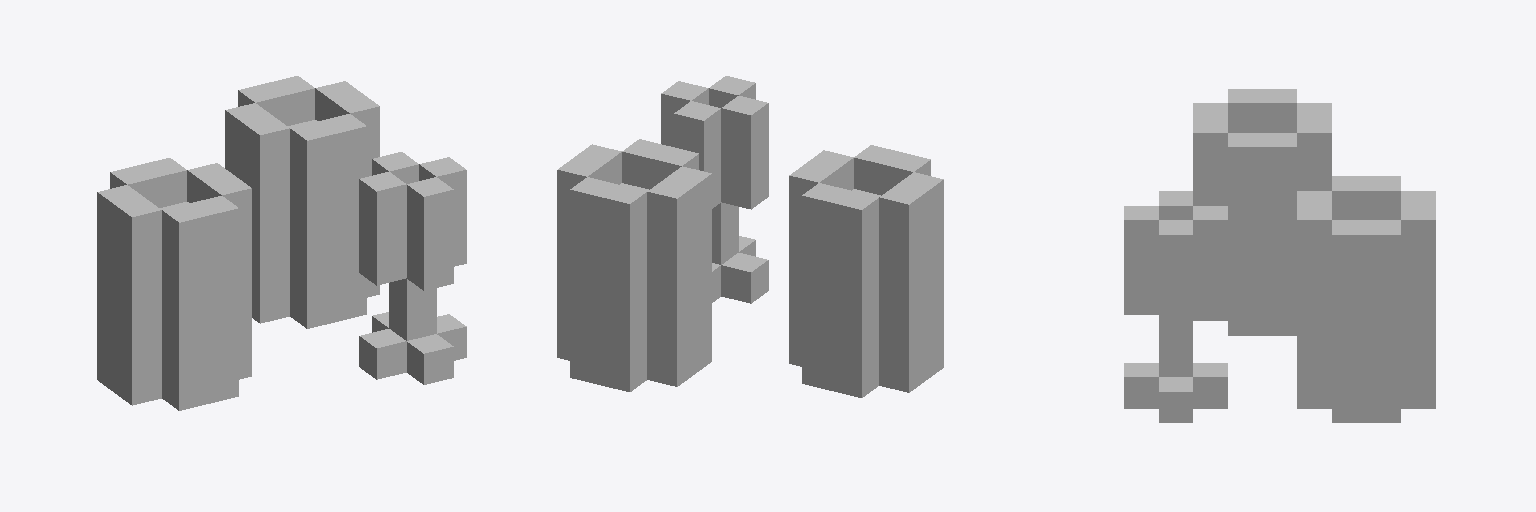
The model's file is Cups.obj.
3 views of the same model, side by side, from view 1: azimuth 30°, elevation 25°; view 2: azimuth 150°, elevation 25°; view 3: azimuth 270°, elevation 25° (orthographic).
Parts seen in each view (by area): view 1: object 1; view 2: object 1; view 3: object 1.
Boxes of the visible parts, box(x1,y1,x2,y2) form: object 1: box(97, 76, 466, 410); object 1: box(557, 76, 943, 397); object 1: box(1124, 89, 1435, 422).
Size of the model in its own units: 1 by 0.6 by 0.9.